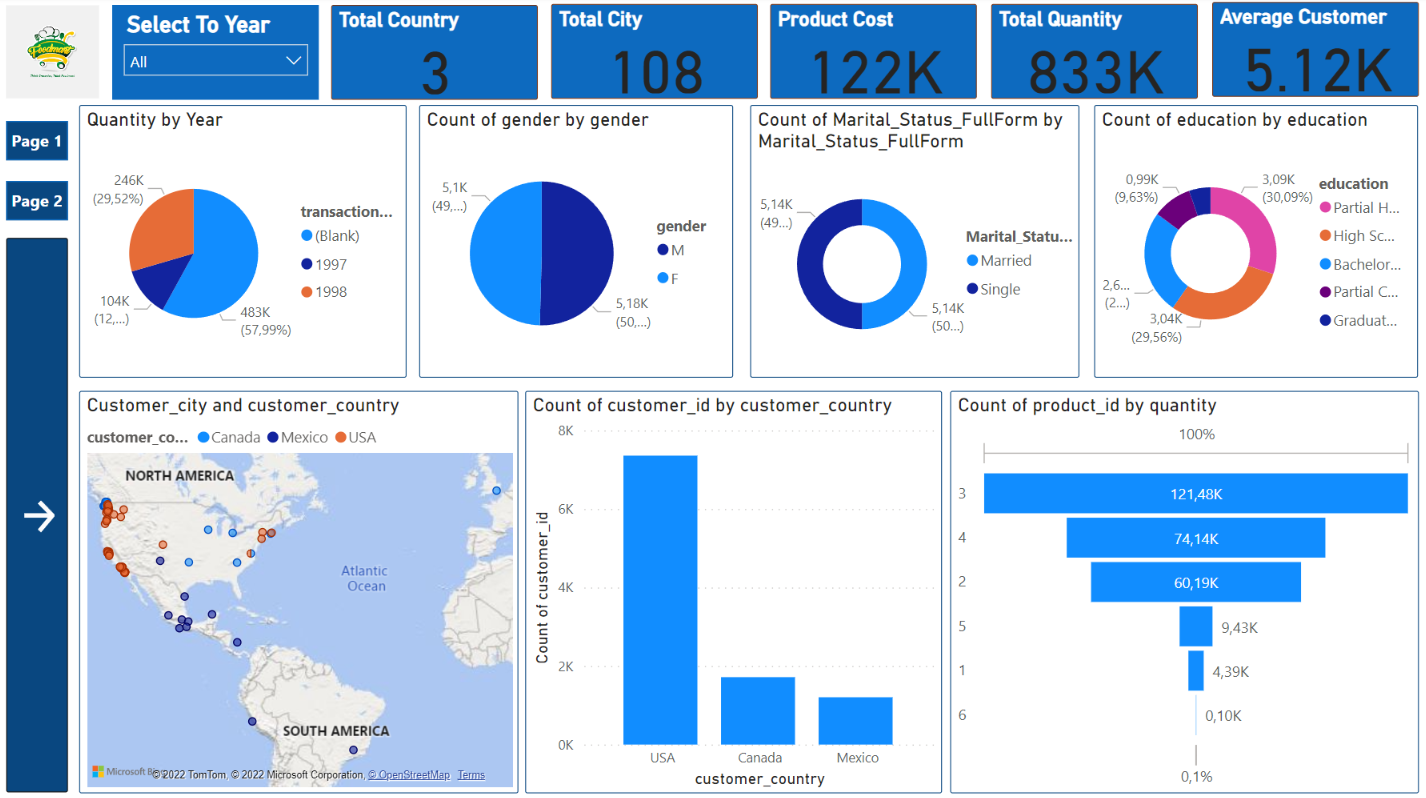

This screenshot's page, from the dashboard's own definition file:
{"tool":"powerbi","page":{"name":"Page 1","canvas":[1280,720],"ordinal":0},"visuals":[{"type":"pieChart","title":"Quantity by Year","fields":{"Category":["Total_Transactions (2).transaction_date.Variation.Date Hierarchy.Year","Total_Transactions (2).transaction_date.Variation.Date Hierarchy.Quarter","Total_Transactions (2).transaction_date.Variation.Date Hierarchy.Month","Total_Transactions (2).transaction_date.Variation.Date Hierarchy.Day"],"Y":["Sum(Total_Transactions (2).quantity)"]},"box":[73.9,96.3,292.8,244.1],"z":0},{"type":"card","title":"Total Country","fields":{"Values":["Customer_Lookup.Total Country"]},"box":[299.6,6.8,184.8,84.6],"z":1000},{"type":"slicer","fields":{"Values":["Total_Transactions (2).transaction_date.Variation.Date Hierarchy.Year","Total_Transactions (2).transaction_date.Variation.Date Hierarchy.Quarter","Total_Transactions (2).transaction_date.Variation.Date Hierarchy.Month","Total_Transactions (2).transaction_date.Variation.Date Hierarchy.Day","Total_Transactions (2).quantity"]},"box":[104.1,6.8,184.8,84.6],"z":2000},{"type":"actionButton","box":[8.8,215.9,55.4,496],"z":3000},{"type":"image","box":[0,2.9,100.2,93.4],"z":4000},{"type":"shape","box":[8.8,164.4,55.4,35],"z":5000},{"type":"shape","box":[8.8,110.9,55.4,35],"z":6000},{"type":"card","title":"Total City","fields":{"Values":["Customer_Lookup.Total City"]},"box":[496,5.8,184.8,84.6],"z":7000},{"type":"card","title":"Total Quantity","fields":{"Values":["Sum(Total_Transactions (2).quantity)"]},"box":[890,5.8,184.8,84.6],"z":9000},{"type":"card","title":"Average Customer","fields":{"Values":["Avg(Total_Transactions (2).customer_id)"]},"box":[1087.4,4.9,184.8,84.6],"z":10000},{"type":"card","title":"Product Cost","fields":{"Values":["Sum(Product_Lookup.product_cost)"]},"box":[692.5,5.8,184.8,84.6],"z":10001},{"type":"pieChart","fields":{"Category":["Customer_Lookup.gender"],"Y":["CountNonNull(Customer_Lookup.gender)"]},"box":[378.4,96.3,281.1,244.1],"z":10002},{"type":"columnChart","fields":{"Category":["Customer_Lookup.customer_country"],"Y":["CountNonNull(Customer_Lookup.customer_id)"]},"box":[472.7,352.1,372.5,359.9],"z":10003},{"type":"map","title":"Customer_city and customer_country","fields":{"Category":["Customer_Lookup.customer_city"],"Series":["Customer_Lookup.customer_country"]},"box":[73.9,352.1,392.9,359.9],"z":10004},{"type":"donutChart","fields":{"Category":["Customer_Lookup.Marital_Status_FullForm"],"Y":["CountNonNull(Customer_Lookup.Marital_Status_FullForm)"]},"box":[674,96.3,294.7,244.1],"z":10005},{"type":"donutChart","fields":{"Category":["Customer_Lookup.education"],"Y":["CountNonNull(Customer_Lookup.education)"]},"box":[982.4,96.3,289.8,244.1],"z":10006},{"type":"funnel","fields":{"Category":["Total_Transactions (2).quantity"],"Y":["CountNonNull(Total_Transactions (2).product_id)"]},"box":[853,352.1,419.2,359.9],"z":10007}]}

Visuals, with their boxes in screenshot pixels (x1, y1, x2, y2):
"Quantity by Year" pieChart: {"left": 73, "top": 102, "right": 405, "bottom": 379}
"Total Country" card: {"left": 329, "top": 0, "right": 538, "bottom": 96}
slicer - Total_Transactions (2).transaction_date.Variation.Date Hierarchy.Year x Total_Transactions (2).transaction_date.Variation.Date Hierarchy.Quarter: {"left": 107, "top": 0, "right": 316, "bottom": 96}
actionButton: {"left": 0, "top": 237, "right": 62, "bottom": 797}
image: {"left": 0, "top": 0, "right": 102, "bottom": 102}
shape: {"left": 0, "top": 179, "right": 62, "bottom": 219}
shape: {"left": 0, "top": 118, "right": 62, "bottom": 158}
"Total City" card: {"left": 551, "top": 0, "right": 761, "bottom": 95}
"Total Quantity" card: {"left": 998, "top": 0, "right": 1207, "bottom": 95}
"Average Customer" card: {"left": 1222, "top": 0, "right": 1425, "bottom": 94}
"Product Cost" card: {"left": 774, "top": 0, "right": 984, "bottom": 95}
pieChart - Customer_Lookup.gender x CountNonNull(Customer_Lookup.gender): {"left": 418, "top": 102, "right": 737, "bottom": 379}
columnChart - Customer_Lookup.customer_country x CountNonNull(Customer_Lookup.customer_id): {"left": 525, "top": 392, "right": 947, "bottom": 797}
"Customer_city and customer_country" map: {"left": 73, "top": 392, "right": 518, "bottom": 797}
donutChart - Customer_Lookup.Marital_Status_FullForm x CountNonNull(Customer_Lookup.Marital_Status_FullForm): {"left": 753, "top": 102, "right": 1087, "bottom": 379}
donutChart - Customer_Lookup.education x CountNonNull(Customer_Lookup.education): {"left": 1103, "top": 102, "right": 1425, "bottom": 379}
funnel - Total_Transactions (2).quantity x CountNonNull(Total_Transactions (2).product_id): {"left": 956, "top": 392, "right": 1425, "bottom": 797}
